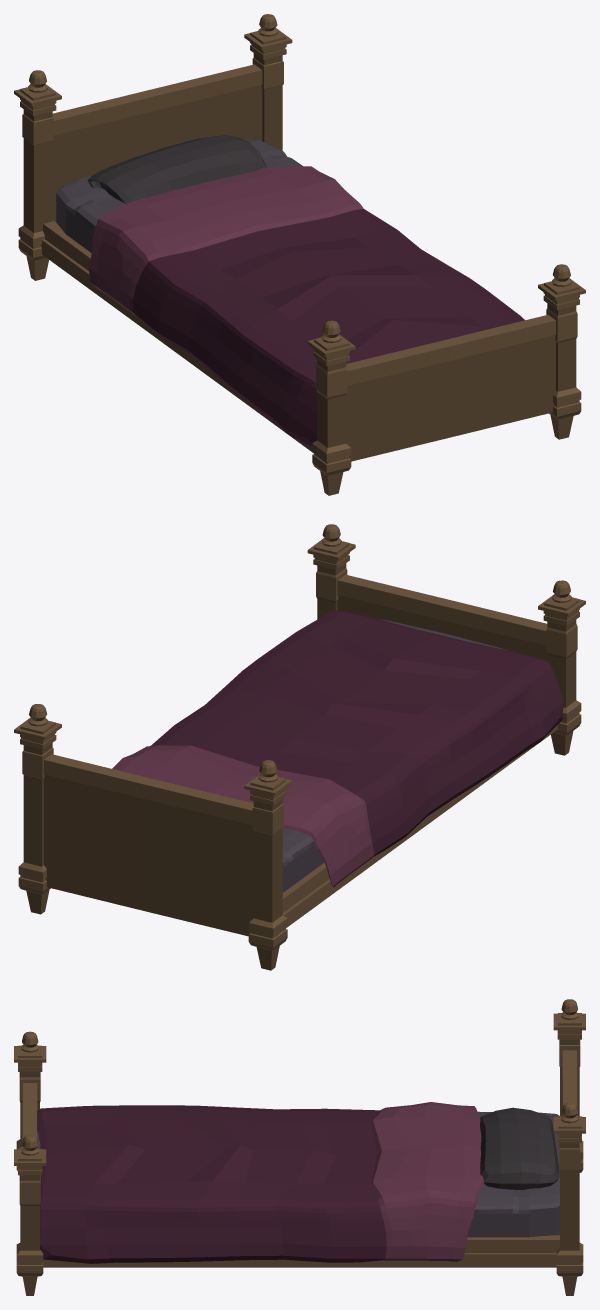
Rendered from BedTwin.glb.
The picture shows the model from 3 angles, top to bottom: view 1: azimuth 30°, elevation 25°; view 2: azimuth 150°, elevation 25°; view 3: azimuth 270°, elevation 25°; orthographic projection. The views are drawn at different scales.
Parts seen in each view (by area): view 1: BedTwin; view 2: BedTwin; view 3: BedTwin.
Part boxes in pixels (x1=…): BedTwin: x1=14, y1=14, x2=585, y2=495; BedTwin: x1=14, y1=524, x2=585, y2=970; BedTwin: x1=14, y1=999, x2=585, y2=1295.
Size of the model in its own units: 1.37 by 1.04 by 2.83.
Materials: 6 (6 with a texture image).
